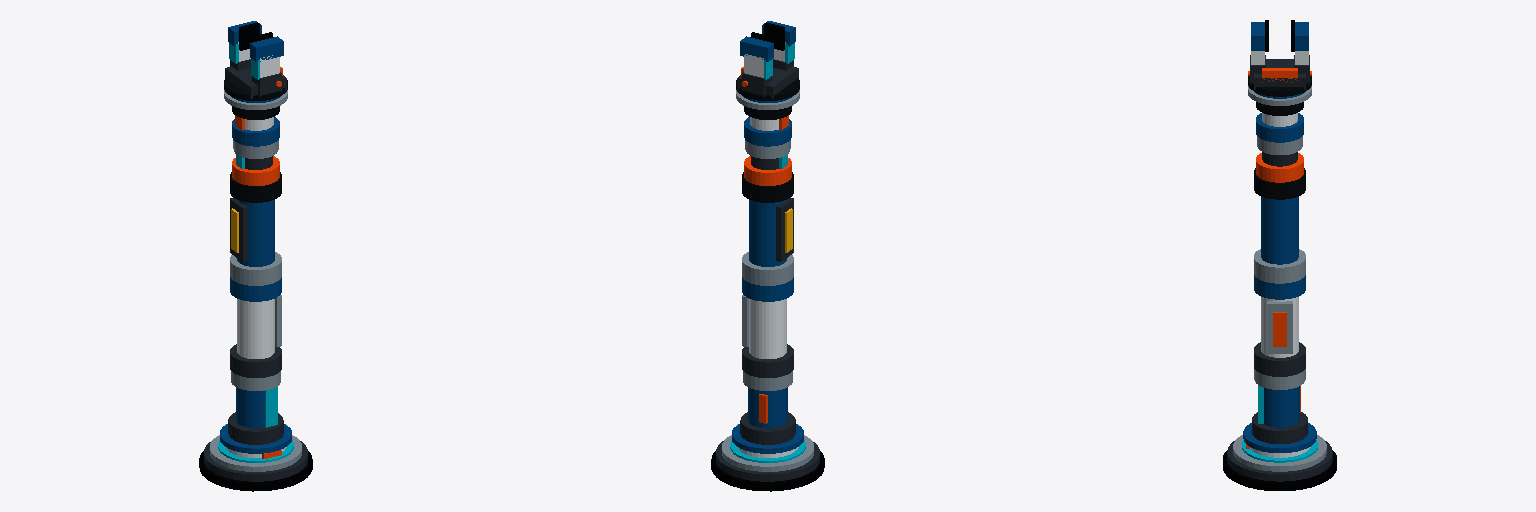
robot.urdf — marm:
<?xml version="1.0" ?>
<!-- =================================================================================== -->
<!-- |    This document was autogenerated by xacro from src/marm_description/urdf/marm.xacro | -->
<!-- |    EDITING THIS FILE BY HAND IS NOT RECOMMENDED                                 | -->
<!-- =================================================================================== -->
<robot name="marm">
  <!-- Industrial palette inspired by UR, Franka, OpenMANIPULATOR and KUKA. -->
  <material name="Graphite">
    <color rgba="0.055 0.070 0.085 1"/>
  </material>
  <material name="Gunmetal">
    <color rgba="0.16 0.19 0.22 1"/>
  </material>
  <material name="PearlWhite">
    <color rgba="0.88 0.91 0.93 1"/>
  </material>
  <material name="Aluminium">
    <color rgba="0.52 0.58 0.62 1"/>
  </material>
  <material name="OceanBlue">
    <color rgba="0.02 0.30 0.52 1"/>
  </material>
  <material name="ElectricCyan">
    <color rgba="0.00 0.72 0.82 1"/>
  </material>
  <material name="SafetyOrange">
    <color rgba="1.00 0.30 0.035 1"/>
  </material>
  <material name="SignalYellow">
    <color rgba="1.00 0.73 0.06 1"/>
  </material>
  <material name="RubberBlack">
    <color rgba="0.018 0.022 0.026 1"/>
  </material>
  <!-- /////////////////////////////////////   ARM BASE    ////////////////////////////////////////////// -->
  <link name="base_link">
    <visual>
      <origin rpy="0 0 0" xyz="0 0 -0.006"/>
      <geometry>
        <cylinder length="0.012" radius="0.078"/>
      </geometry>
      <material name="RubberBlack"/>
    </visual>
    <visual>
      <origin rpy="0 0 0" xyz="0 0 0.004"/>
      <geometry>
        <cylinder length="0.014" radius="0.072"/>
      </geometry>
      <material name="Gunmetal"/>
    </visual>
    <visual>
      <origin rpy="0 0 0" xyz="0 0 0.014"/>
      <geometry>
        <cylinder length="0.01" radius="0.064"/>
      </geometry>
      <material name="Aluminium"/>
    </visual>
    <visual>
      <origin rpy="0 0 0" xyz="0 0 0.020"/>
      <geometry>
        <cylinder length="0.004" radius="0.052"/>
      </geometry>
      <material name="ElectricCyan"/>
    </visual>
  </link>
  <joint name="base_joint" type="fixed">
    <origin rpy="0 0 0" xyz="0 0 0.02"/>
    <parent link="base_link"/>
    <child link="link0"/>
  </joint>
  <!-- /////////////////////////////////////    LINK0    ////////////////////////////////////////////// -->
  <link name="link0">
    <visual>
      <origin rpy="0 0 0" xyz="0 0 0"/>
      <geometry>
        <cylinder length="0.032" radius="0.043"/>
      </geometry>
      <material name="PearlWhite"/>
    </visual>
    <visual>
      <origin rpy="0 0 0" xyz="0 0 -0.016"/>
      <geometry>
        <cylinder length="0.008" radius="0.05"/>
      </geometry>
      <material name="Graphite"/>
    </visual>
    <visual>
      <origin rpy="0 0 0" xyz="0 0 0.016"/>
      <geometry>
        <cylinder length="0.008" radius="0.05"/>
      </geometry>
      <material name="OceanBlue"/>
    </visual>
    <visual>
      <origin rpy="0 0 0" xyz="0 -0.043 0"/>
      <geometry>
        <box size="0.028 0.006 0.020"/>
      </geometry>
      <material name="SafetyOrange"/>
    </visual>
    <collision>
      <origin rpy="0 0 0" xyz="0 0 0"/>
      <geometry>
        <cylinder length="0.04" radius="0.05"/>
      </geometry>
    </collision>
    <cylinder_inertial_matrix h="0.04" m="1" r="0.05"/>
  </link>
  <joint name="joint1" type="revolute">
    <parent link="link0"/>
    <child link="link1"/>
    <origin rpy="0 1.570795 0" xyz="0 0 0.02"/>
    <axis xyz="-1 0 0"/>
    <limit effort="300" lower="-3.14159" upper="3.14159" velocity="1"/>
  </joint>
  <!-- /////////////////////////////////////   LINK1  ////////////////////////////////////////////// -->
  <link name="link1">
    <visual>
      <origin rpy="0 1.570795 0" xyz="-0.05 0 0"/>
      <geometry>
        <cylinder length="0.078" radius="0.027"/>
      </geometry>
      <material name="OceanBlue"/>
    </visual>
    <visual>
      <origin rpy="0 1.570795 0" xyz="-0.010 0 0"/>
      <geometry>
        <cylinder length="0.02" radius="0.038"/>
      </geometry>
      <material name="Gunmetal"/>
    </visual>
    <visual>
      <origin rpy="0 1.570795 0" xyz="-0.090 0 0"/>
      <geometry>
        <cylinder length="0.02" radius="0.035"/>
      </geometry>
      <material name="Aluminium"/>
    </visual>
    <visual>
      <origin rpy="0 0 0" xyz="-0.05 -0.026 0.008"/>
      <geometry>
        <box size="0.058 0.008 0.018"/>
      </geometry>
      <material name="ElectricCyan"/>
    </visual>
    <visual>
      <origin rpy="0 0 0" xyz="-0.05 0.026 -0.008"/>
      <geometry>
        <box size="0.042 0.006 0.012"/>
      </geometry>
      <material name="SafetyOrange"/>
    </visual>
    <collision>
      <origin rpy="0 1.570795 0" xyz="-0.05 0 0"/>
      <geometry>
        <cylinder length="0.1" radius="0.03"/>
      </geometry>
    </collision>
    <cylinder_inertial_matrix h="0.1" m="1" r="0.03"/>
  </link>
  <joint name="joint2" type="revolute">
    <parent link="link1"/>
    <child link="link2"/>
    <origin rpy="-1.570795 0 1.570795" xyz="-0.1 0 0.0"/>
    <axis xyz="1 0 0"/>
    <limit effort="300" lower="-3.14159" upper="3.14159" velocity="1"/>
  </joint>
  <!-- ///////////////////////////////////////   LINK2  ////////////////////////////////////////////// -->
  <link name="link2">
    <visual>
      <origin rpy="0 0 0" xyz="0 0 0.07"/>
      <geometry>
        <cylinder length="0.112" radius="0.026"/>
      </geometry>
      <material name="PearlWhite"/>
    </visual>
    <visual>
      <origin rpy="0 0 0" xyz="0 0 0.012"/>
      <geometry>
        <cylinder length="0.024" radius="0.036"/>
      </geometry>
      <material name="Gunmetal"/>
    </visual>
    <visual>
      <origin rpy="0 0 0" xyz="0 0 0.128"/>
      <geometry>
        <cylinder length="0.024" radius="0.036"/>
      </geometry>
      <material name="OceanBlue"/>
    </visual>
    <visual>
      <origin rpy="0 0 0" xyz="0 -0.027 0.07"/>
      <geometry>
        <box size="0.036 0.009 0.076"/>
      </geometry>
      <material name="Aluminium"/>
    </visual>
    <visual>
      <origin rpy="0 0 0" xyz="0 -0.033 0.07"/>
      <geometry>
        <box size="0.020 0.004 0.052"/>
      </geometry>
      <material name="SafetyOrange"/>
    </visual>
    <collision>
      <origin rpy="0 0 0" xyz="0 0 0.07"/>
      <geometry>
        <cylinder length="0.14" radius="0.03"/>
      </geometry>
    </collision>
    <cylinder_inertial_matrix h="0.14" m="0.8" r="0.03"/>
  </link>
  <joint name="joint3" type="revolute">
    <parent link="link2"/>
    <child link="link3"/>
    <origin rpy="0 3.14159 0" xyz="0 0 0.14"/>
    <axis xyz="-1 0 0"/>
    <limit effort="300" lower="-3.14159" upper="3.14159" velocity="1"/>
  </joint>
  <!-- /////////////////////////////////   LINK3  ///////////////////////////////////////////////////// -->
  <link name="link3">
    <visual>
      <origin rpy="0 0 0" xyz="0 0 -0.075"/>
      <geometry>
        <cylinder length="0.12" radius="0.026"/>
      </geometry>
      <material name="OceanBlue"/>
    </visual>
    <visual>
      <origin rpy="0 0 0" xyz="0 0 -0.012"/>
      <geometry>
        <cylinder length="0.024" radius="0.036"/>
      </geometry>
      <material name="Aluminium"/>
    </visual>
    <visual>
      <origin rpy="0 0 0" xyz="0 0 -0.138"/>
      <geometry>
        <cylinder length="0.024" radius="0.036"/>
      </geometry>
      <material name="Graphite"/>
    </visual>
    <visual>
      <origin rpy="0 0 0" xyz="0 0.027 -0.075"/>
      <geometry>
        <box size="0.036 0.009 0.082"/>
      </geometry>
      <material name="Gunmetal"/>
    </visual>
    <visual>
      <origin rpy="0 0 0" xyz="0 0.033 -0.075"/>
      <geometry>
        <box size="0.018 0.004 0.060"/>
      </geometry>
      <material name="SignalYellow"/>
    </visual>
    <collision>
      <origin rpy="0 0 0" xyz="0 0 -0.075"/>
      <geometry>
        <cylinder length="0.15" radius="0.03"/>
      </geometry>
    </collision>
    <cylinder_inertial_matrix h="0.15" m="0.8" r="0.03"/>
  </link>
  <joint name="joint4" type="revolute">
    <parent link="link3"/>
    <child link="link4"/>
    <origin rpy="0 1.570795 3.14159" xyz="0.0 0.0 -0.15"/>
    <axis xyz="1 0 0"/>
    <limit effort="300" lower="-3.14159" upper="3.14159" velocity="1"/>
  </joint>
  <!-- ///////////////////////////////////   LINK4  //////////////////////////////////////////////// -->
  <link name="link4">
    <visual>
      <origin rpy="0 1.570795 0" xyz="0.03 0 0"/>
      <geometry>
        <cylinder length="0.042" radius="0.024"/>
      </geometry>
      <material name="Gunmetal"/>
    </visual>
    <visual>
      <origin rpy="0 1.570795 0" xyz="0.010 0 0"/>
      <geometry>
        <cylinder length="0.02" radius="0.033"/>
      </geometry>
      <material name="SafetyOrange"/>
    </visual>
    <visual>
      <origin rpy="0 1.570795 0" xyz="0.050 0 0"/>
      <geometry>
        <cylinder length="0.02" radius="0.031"/>
      </geometry>
      <material name="Aluminium"/>
    </visual>
    <visual>
      <origin rpy="0 0 0" xyz="0.03 -0.024 0"/>
      <geometry>
        <box size="0.026 0.006 0.018"/>
      </geometry>
      <material name="ElectricCyan"/>
    </visual>
    <collision>
      <origin rpy="0 1.570795 0" xyz="0.03 0 0"/>
      <geometry>
        <cylinder length="0.06" radius="0.025"/>
      </geometry>
    </collision>
    <cylinder_inertial_matrix h="0.06" m="0.7" r="0.025"/>
  </link>
  <joint name="joint5" type="revolute">
    <parent link="link4"/>
    <child link="link5"/>
    <origin rpy="0 1.570795 0" xyz="0.06 0.0 0.0"/>
    <axis xyz="1 0 0"/>
    <limit effort="300" lower="-3.14159" upper="3.14159" velocity="1"/>
  </joint>
  <!-- //////////////////////////////////   LINK5  ///////////////////////////////////////////////// -->
  <link name="link5">
    <visual>
      <origin rpy="0 0 0" xyz="0 0 0.03"/>
      <geometry>
        <cylinder length="0.042" radius="0.025"/>
      </geometry>
      <material name="PearlWhite"/>
    </visual>
    <visual>
      <origin rpy="0 0 0" xyz="0 0 0.010"/>
      <geometry>
        <cylinder length="0.02" radius="0.033"/>
      </geometry>
      <material name="OceanBlue"/>
    </visual>
    <visual>
      <origin rpy="0 0 0" xyz="0 0 0.050"/>
      <geometry>
        <cylinder length="0.02" radius="0.033"/>
      </geometry>
      <material name="Graphite"/>
    </visual>
    <visual>
      <origin rpy="0 0 0" xyz="0 -0.025 0.03"/>
      <geometry>
        <box size="0.018 0.006 0.026"/>
      </geometry>
      <material name="SafetyOrange"/>
    </visual>
    <collision>
      <origin rpy="0 0 0" xyz="0 0 0.03 "/>
      <geometry>
        <cylinder length="0.06" radius="0.03"/>
      </geometry>
    </collision>
    <cylinder_inertial_matrix h="0.06" m="0.7" r="0.03"/>
  </link>
  <joint name="joint6" type="revolute">
    <parent link="link5"/>
    <child link="link6"/>
    <origin rpy="4.712384999999999 -1.570795 0" xyz="0 0 0.06"/>
    <axis xyz="1 0 0"/>
    <limit effort="300" lower="-6.28318" upper="6.28318" velocity="1"/>
  </joint>
  <!-- ////////////////////////////////   LINK6  ///////////////////////////////////////////////// -->
  <link name="link6">
    <visual>
      <origin rpy="0 1.570795 0" xyz="0.01 0 0"/>
      <geometry>
        <cylinder length="0.02" radius="0.038"/>
      </geometry>
      <material name="OceanBlue"/>
    </visual>
    <visual>
      <origin rpy="0 1.570795 0" xyz="0.004 0 0"/>
      <geometry>
        <cylinder length="0.008" radius="0.044"/>
      </geometry>
      <material name="Aluminium"/>
    </visual>
    <visual>
      <origin rpy="0 1.570795 0" xyz="0.018 0 0"/>
      <geometry>
        <cylinder length="0.008" radius="0.044"/>
      </geometry>
      <material name="Graphite"/>
    </visual>
    <visual>
      <origin rpy="0 0 0" xyz="0.027 0 0"/>
      <geometry>
        <box size="0.018 0.072 0.058"/>
      </geometry>
      <material name="Gunmetal"/>
    </visual>
    <visual>
      <origin rpy="0 0 0" xyz="0.037 0 0.025"/>
      <geometry>
        <box size="0.018 0.050 0.008"/>
      </geometry>
      <material name="SafetyOrange"/>
    </visual>
    <collision>
      <origin rpy="0 1.570795 0" xyz="0.01 0 0"/>
      <geometry>
        <cylinder length="0.02" radius="0.04"/>
      </geometry>
    </collision>
    <cylinder_inertial_matrix h="0.02" m="0.6" r="0.04"/>
  </link>
  <joint name="finger_joint1" type="prismatic">
    <parent link="link6"/>
    <child link="gripper_finger_link1"/>
    <origin rpy="0 0 0" xyz="0.02 -0.03 0"/>
    <axis xyz="0 1 0"/>
    <limit effort="100" lower="0" upper="0.06" velocity="0.02"/>
  </joint>
  <!-- //////////////////////////////////////   gripper   ////////////////////////////////////////////// -->
  <!-- LEFT GRIPPER AFT LINK -->
  <link name="gripper_finger_link1">
    <visual>
      <origin rpy="0 0 0" xyz="0.014 0 0"/>
      <geometry>
        <box size="0.028 0.022 0.036"/>
      </geometry>
      <material name="Gunmetal"/>
    </visual>
    <visual>
      <origin rpy="0 0 0" xyz="0.041 0 0"/>
      <geometry>
        <box size="0.034 0.018 0.032"/>
      </geometry>
      <material name="PearlWhite"/>
    </visual>
    <visual>
      <origin rpy="0 0 0" xyz="0.064 0 0"/>
      <geometry>
        <box size="0.022 0.018 0.044"/>
      </geometry>
      <material name="OceanBlue"/>
    </visual>
    <visual>
      <origin rpy="0 0 0" xyz="0.064 0.012 0"/>
      <geometry>
        <box size="0.034 0.006 0.030"/>
      </geometry>
      <material name="RubberBlack"/>
    </visual>
    <visual>
      <origin rpy="0 0 0" xyz="0.041 0 -0.018"/>
      <geometry>
        <box size="0.030 0.020 0.004"/>
      </geometry>
      <material name="ElectricCyan"/>
    </visual>
    <visual>
      <origin rpy="1.570795 0 0" xyz="0.014 -0.012 0.012"/>
      <geometry>
        <cylinder length="0.004" radius="0.004"/>
      </geometry>
      <material name="SafetyOrange"/>
    </visual>
    <collision>
      <origin rpy="0 1.570795 0" xyz="0.03 0 0"/>
      <geometry>
        <box size="0.03 0.01 0.06"/>
      </geometry>
    </collision>
    <box_inertial_matrix d="0.03" h="0.06" m="0.5" w="0.01"/>
  </link>
  <joint name="finger_joint2" type="fixed">
    <parent link="link6"/>
    <child link="gripper_finger_link2"/>
    <origin rpy="0 0 0" xyz="0.02 0.03 0"/>
  </joint>
  <!-- RIGHT GRIPPER AFT LINK -->
  <link name="gripper_finger_link2">
    <visual>
      <origin rpy="0 0 0" xyz="0.014 0 0"/>
      <geometry>
        <box size="0.028 0.022 0.036"/>
      </geometry>
      <material name="Gunmetal"/>
    </visual>
    <visual>
      <origin rpy="0 0 0" xyz="0.041 0 0"/>
      <geometry>
        <box size="0.034 0.018 0.032"/>
      </geometry>
      <material name="PearlWhite"/>
    </visual>
    <visual>
      <origin rpy="0 0 0" xyz="0.064 0 0"/>
      <geometry>
        <box size="0.022 0.018 0.044"/>
      </geometry>
      <material name="OceanBlue"/>
    </visual>
    <visual>
      <origin rpy="0 0 0" xyz="0.064 -0.012 0"/>
      <geometry>
        <box size="0.034 0.006 0.030"/>
      </geometry>
      <material name="RubberBlack"/>
    </visual>
    <visual>
      <origin rpy="0 0 0" xyz="0.041 0 -0.018"/>
      <geometry>
        <box size="0.030 0.020 0.004"/>
      </geometry>
      <material name="ElectricCyan"/>
    </visual>
    <visual>
      <origin rpy="1.570795 0 0" xyz="0.014 0.012 0.012"/>
      <geometry>
        <cylinder length="0.004" radius="0.004"/>
      </geometry>
      <material name="SafetyOrange"/>
    </visual>
    <collision>
      <origin rpy="0 1.570795 0" xyz="0.03 0 0"/>
      <geometry>
        <box size="0.03 0.01 0.06"/>
      </geometry>
    </collision>
    <box_inertial_matrix d="0.03" h="0.06" m="0.5" w="0.01"/>
  </link>
  <!-- Grasping frame -->
  <link name="grasping_frame"/>
  <joint name="grasping_frame_joint" type="fixed">
    <parent link="link6"/>
    <child link="grasping_frame"/>
    <origin rpy="0 0 0" xyz="0.06 0 0"/>
  </joint>
</robot>

--- Facts derived from the render (not from the file) ---
Views: 3 orthographic renders of the robot side by side, from view 1: azimuth 30°, elevation 25°; view 2: azimuth 150°, elevation 25°; view 3: azimuth 270°, elevation 25°.
Model marm with 11 links and 10 joints (6 revolute, 1 prismatic, 3 fixed), rooted at base_link, posed all joints at 0.
Visible links, largest first — view 1: link3, link2, base_link, link1, link4, link6, gripper_finger_link2, link5, gripper_finger_link1, link0; view 2: link3, link2, base_link, link1, link4, link6, gripper_finger_link1, link5, gripper_finger_link2, link0; view 3: link3, base_link, link2, link1, link6, link4, link5, link0, gripper_finger_link1, gripper_finger_link2.
Link boxes in pixels (box(x1,y1,x2,y2)): link3: box(230, 172, 281, 285); link2: box(230, 277, 281, 377); base_link: box(199, 435, 312, 491); link1: box(228, 371, 283, 444); link4: box(232, 140, 279, 185); link6: box(224, 66, 287, 109); gripper_finger_link2: box(250, 32, 283, 96); link5: box(232, 106, 279, 146); gripper_finger_link1: box(228, 21, 261, 70); link0: box(220, 424, 291, 458); link3: box(742, 172, 793, 285); link2: box(742, 277, 793, 377); base_link: box(711, 435, 824, 491); link1: box(740, 371, 795, 444); link4: box(744, 140, 791, 185); link6: box(736, 66, 799, 109); gripper_finger_link1: box(740, 32, 773, 96); link5: box(744, 106, 791, 146); gripper_finger_link2: box(762, 21, 795, 70); link0: box(732, 424, 803, 457); link3: box(1254, 168, 1305, 283); base_link: box(1223, 435, 1336, 490); link2: box(1254, 275, 1305, 376); link1: box(1252, 369, 1307, 443); link6: box(1248, 59, 1311, 105); link4: box(1256, 136, 1303, 182); link5: box(1256, 102, 1303, 142); link0: box(1243, 423, 1316, 457); gripper_finger_link1: box(1291, 20, 1311, 84); gripper_finger_link2: box(1248, 20, 1268, 84).
Bounding box of the posed robot: 0.156 × 0.156 × 0.663 m (x, y, z).
Geometry: primitives only (box / cylinder / sphere), no mesh files.
